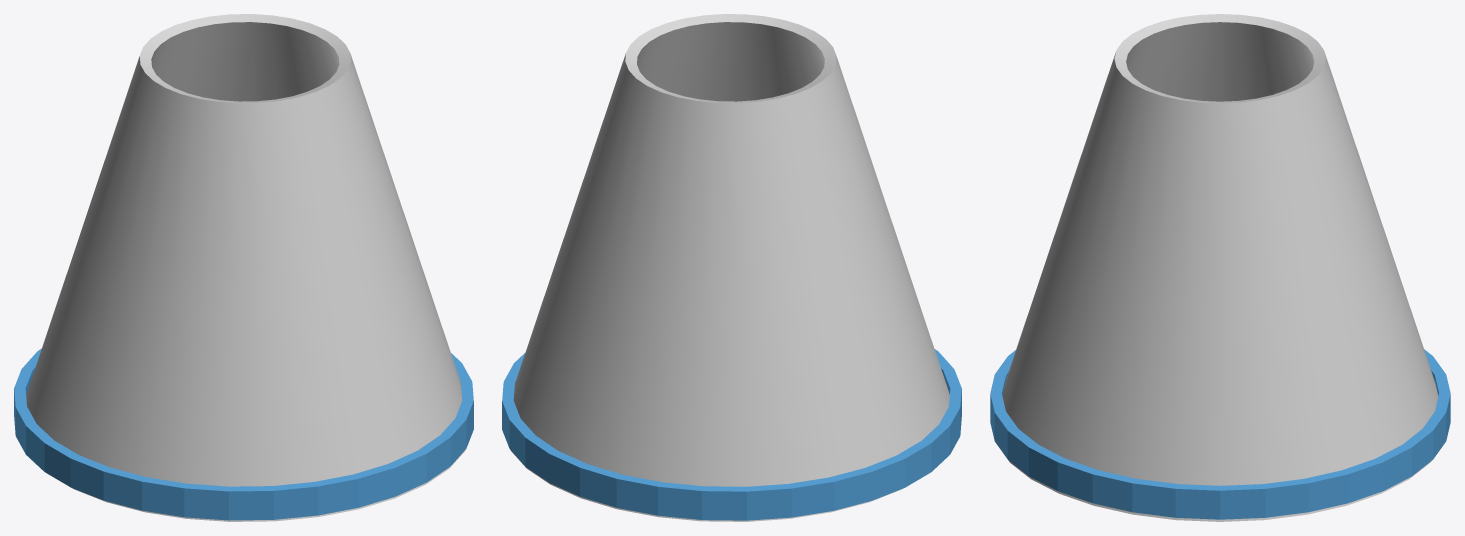
The model's file is _one (3).fbx.
3 views of the same model, side by side, from view 1: azimuth 30°, elevation 25°; view 2: azimuth 150°, elevation 25°; view 3: azimuth 270°, elevation 25° (orthographic).
Visible parts, largest first — view 1: cone; view 2: cone; view 3: cone.
Part boxes in pixels (x1=…): cone: x1=14, y1=14, x2=473, y2=521; cone: x1=502, y1=14, x2=961, y2=521; cone: x1=990, y1=14, x2=1450, y2=521.
Bounding box in the file's own units: 344 × 306 × 344.
